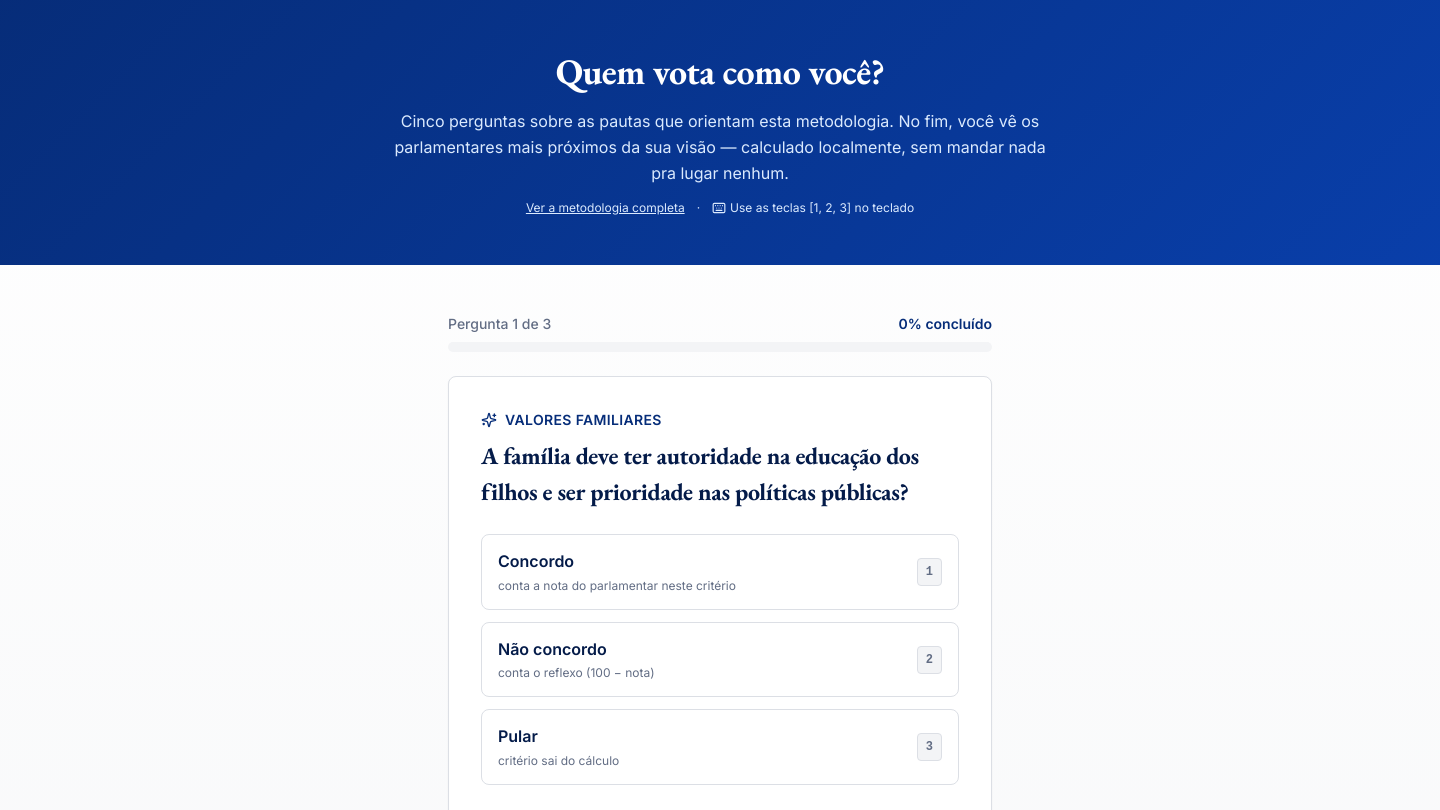
Test: MatchPage — M1 Match Eleitor › discordando de valores familiares inverte a preferência
Click the button "Não concordo conta o reflexo (100 − nota) 2" at (552, 649), box [481, 622, 959, 697]
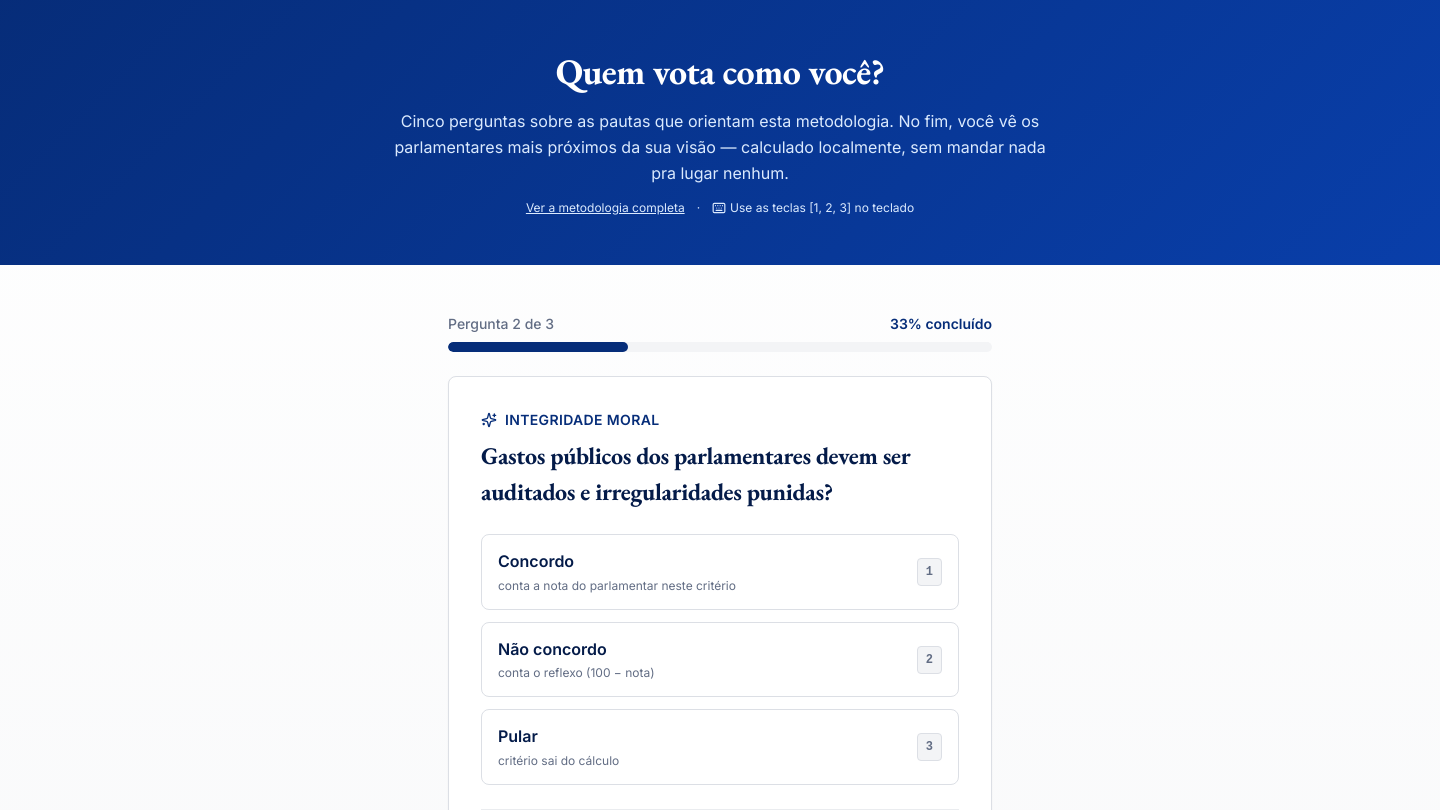
Click the button "Concordo conta a nota do parlamentar neste critério 1" at (536, 561), box [481, 534, 959, 610]
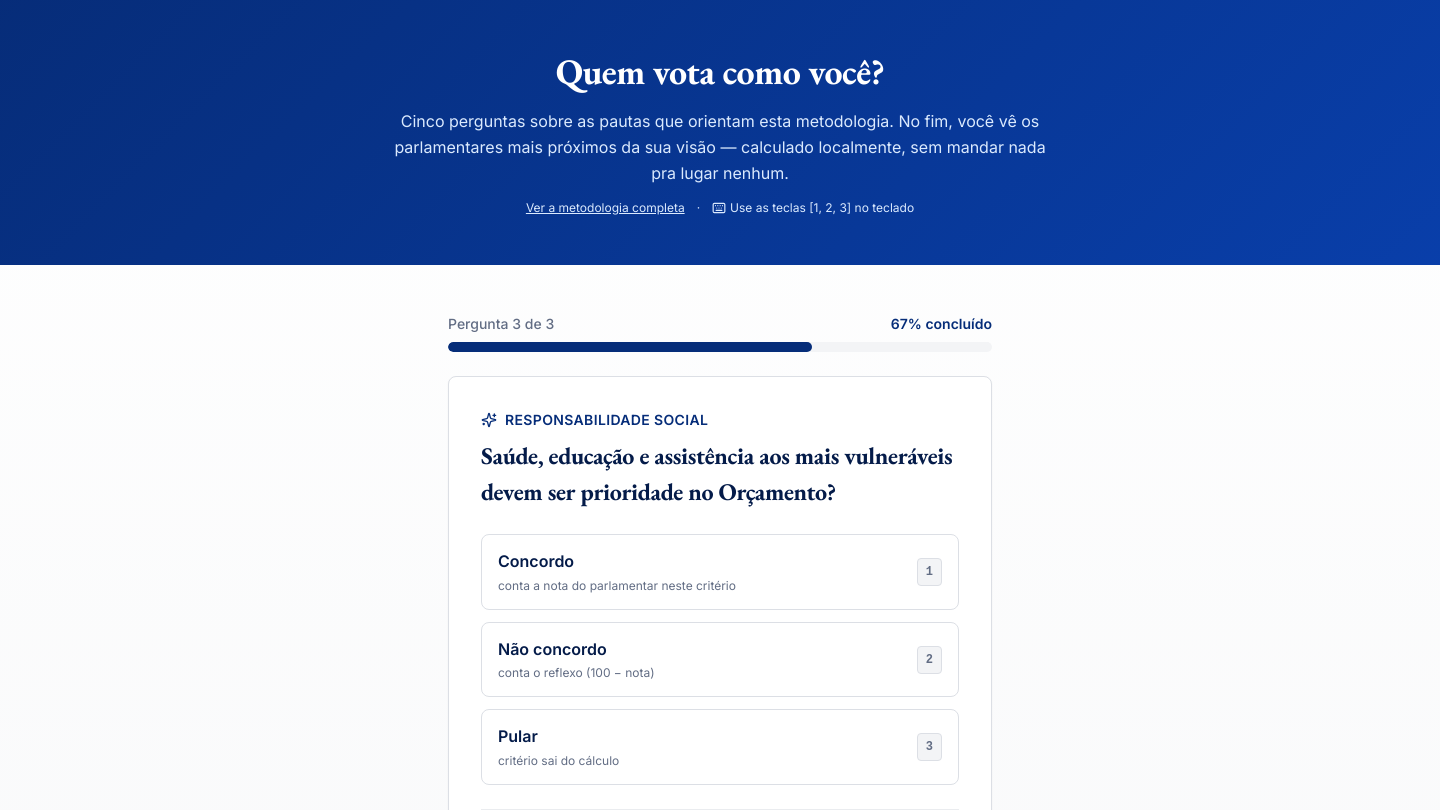
Click the button "Concordo conta a nota do parlamentar neste critério 1" at (536, 561), box [481, 534, 959, 610]
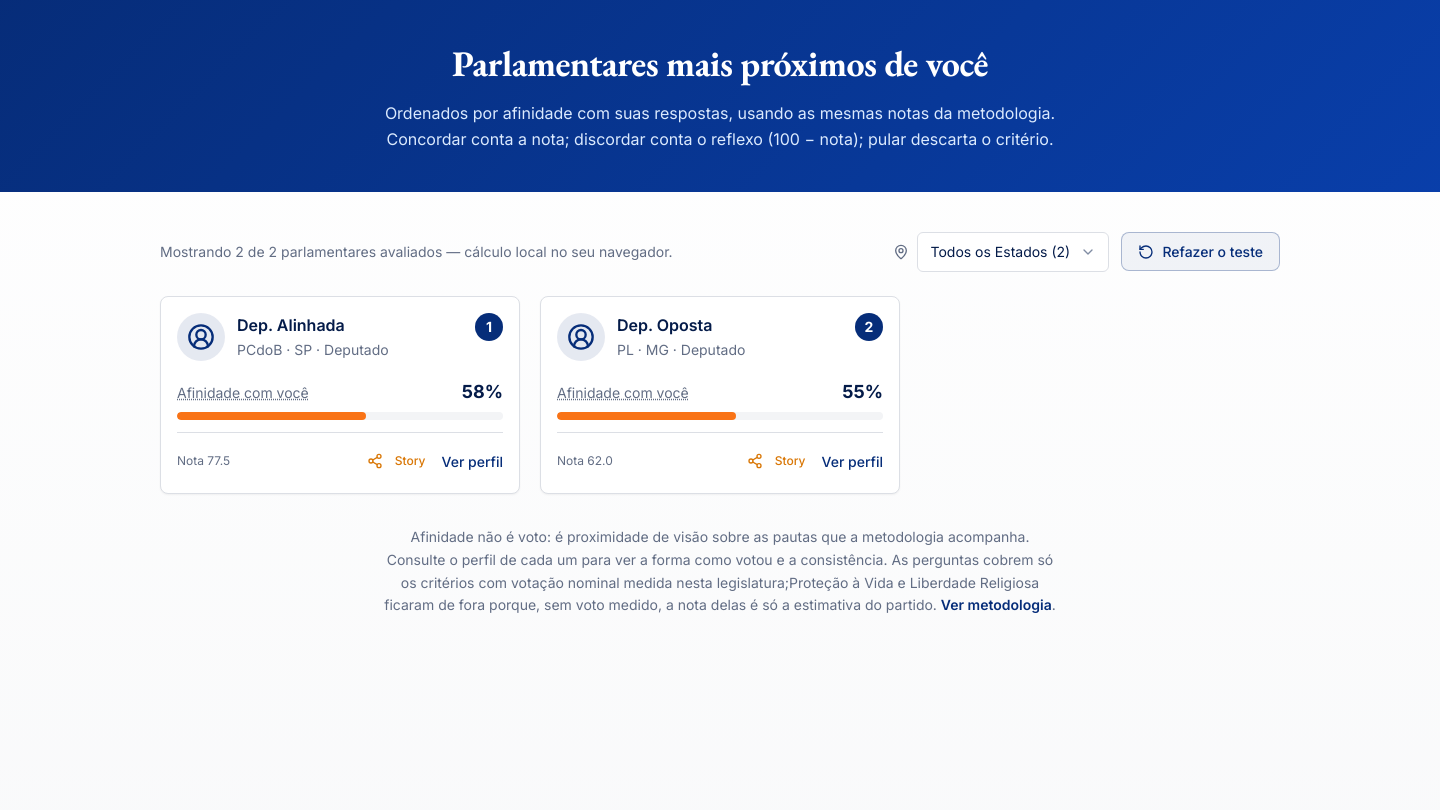
Expected: the list item that starts with "Dep. Alinhada" is shown, [237, 313, 463, 339]
Expected: the list item that starts with "Dep. Oposta" is shown, [617, 313, 843, 339]
